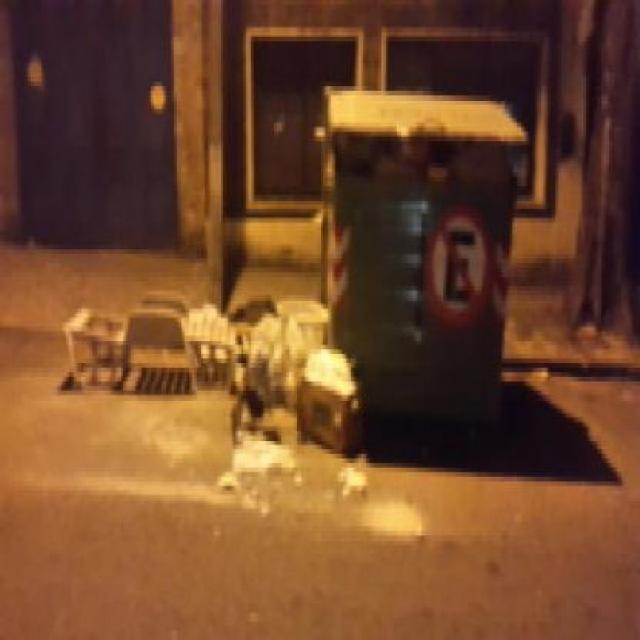garbage: (66, 295, 353, 427)
